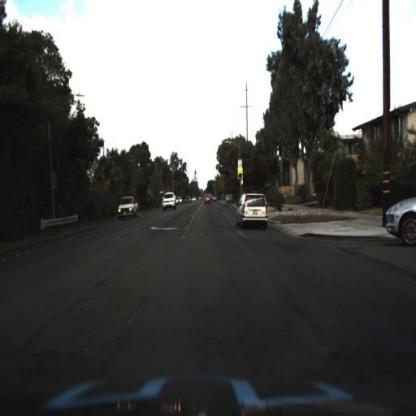car: (384, 192, 416, 251), (238, 188, 271, 235), (114, 195, 143, 224), (117, 196, 141, 221), (161, 192, 178, 213), (163, 192, 181, 211), (204, 192, 215, 206), (177, 194, 184, 209)
